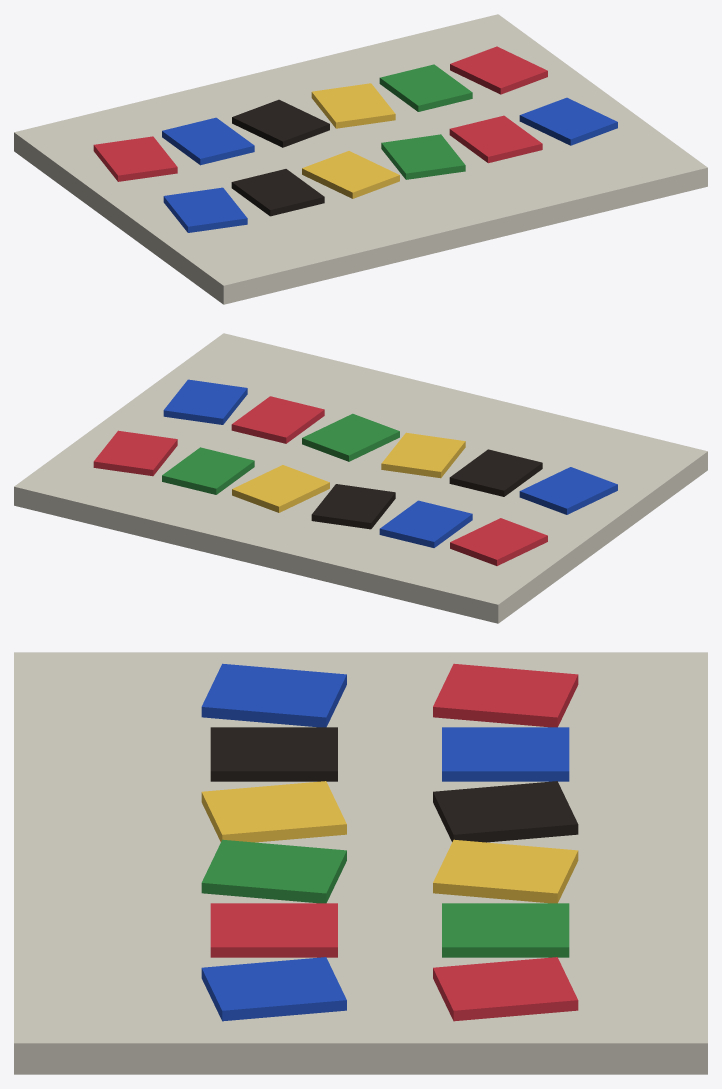
File: ransom_letter.glb
3 renders of one model, top to bottom at view 1: azimuth 30°, elevation 25°; view 2: azimuth 150°, elevation 25°; view 3: azimuth 270°, elevation 25°, orthographic. The views are drawn at different scales.
Visible parts, largest first — view 1: paper_letter_paper, letters; view 2: paper_letter_paper, letters; view 3: paper_letter_paper, letters.
Boxes of the visible parts, x1=… form: paper_letter_paper: x1=14, y1=14, x2=707, y2=304; letters: x1=93, y1=46, x2=617, y2=232; paper_letter_paper: x1=14, y1=333, x2=707, y2=623; letters: x1=93, y1=379, x2=617, y2=565; paper_letter_paper: x1=14, y1=652, x2=707, y2=1074; letters: x1=201, y1=663, x2=578, y2=1021.
Bounding box in the file's own units: 0.16 × 0.008 × 0.12.
